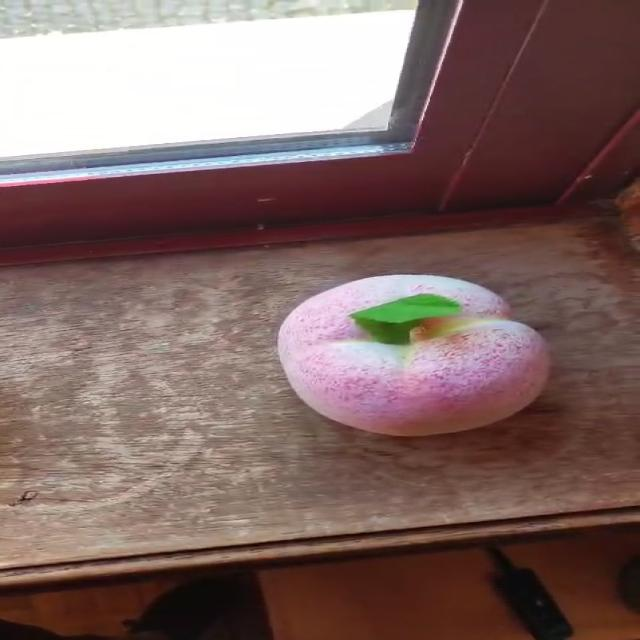peach: (278, 275, 549, 436)
